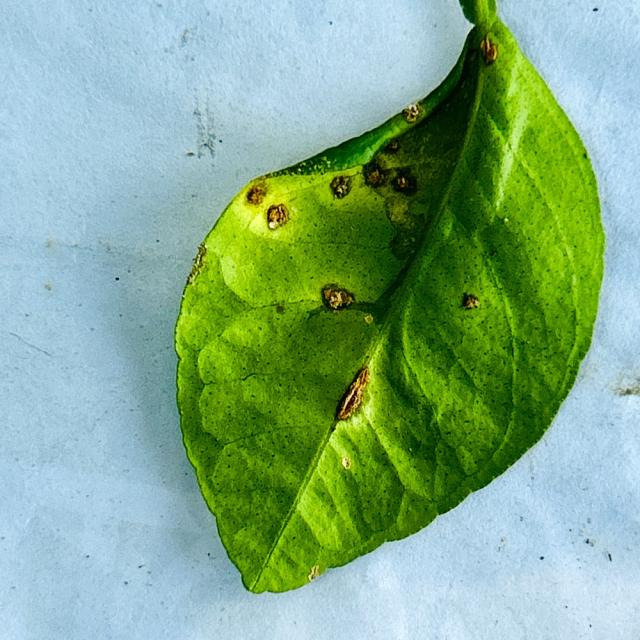Anthracnose: (336, 366, 371, 421), (185, 243, 208, 285), (321, 284, 354, 312), (362, 159, 389, 187), (391, 171, 418, 196), (455, 292, 483, 315), (266, 204, 290, 230), (329, 175, 351, 199), (480, 35, 498, 64), (246, 184, 267, 206), (402, 103, 422, 123), (307, 565, 321, 582), (384, 139, 400, 153), (465, 49, 477, 65), (341, 457, 352, 469), (275, 303, 286, 314), (364, 314, 373, 324)
Lemon: (173, 0, 607, 596)
